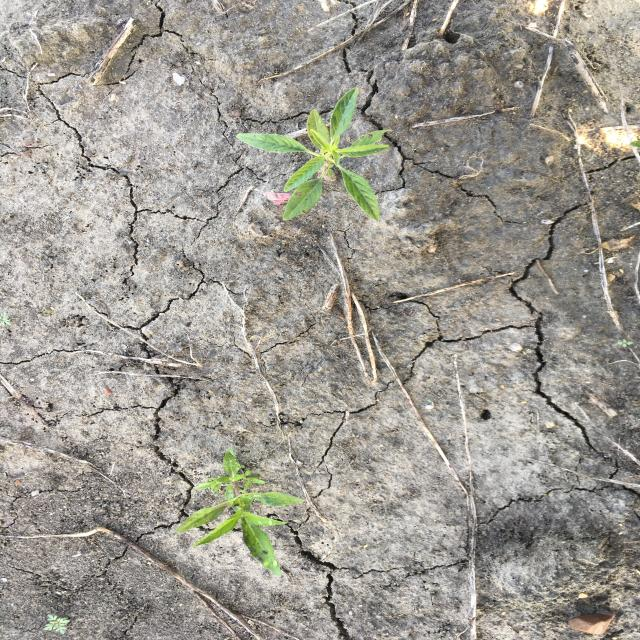Eclipta: (172, 449, 307, 579)
Waterhemp: (233, 86, 395, 222)
